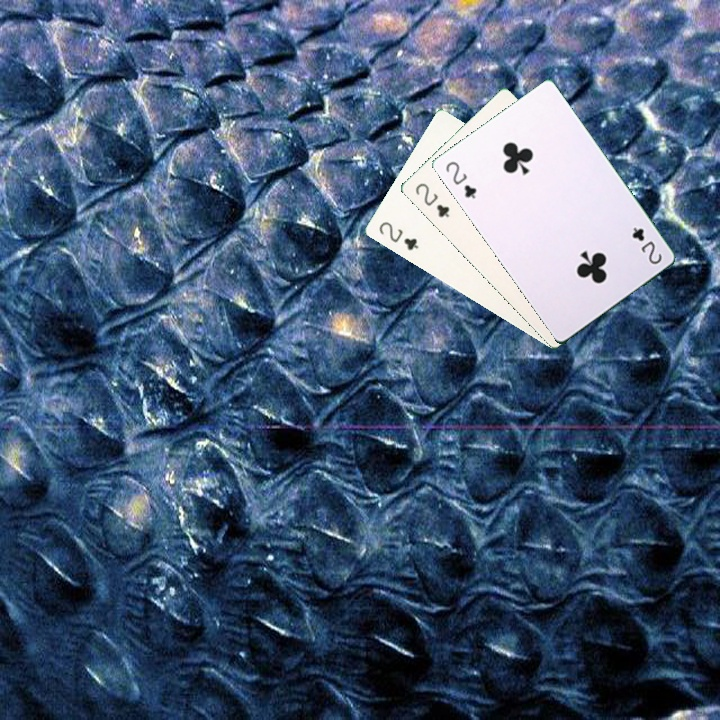2c: (411, 179, 452, 220), (441, 157, 479, 201), (375, 217, 421, 253), (628, 223, 665, 267)
